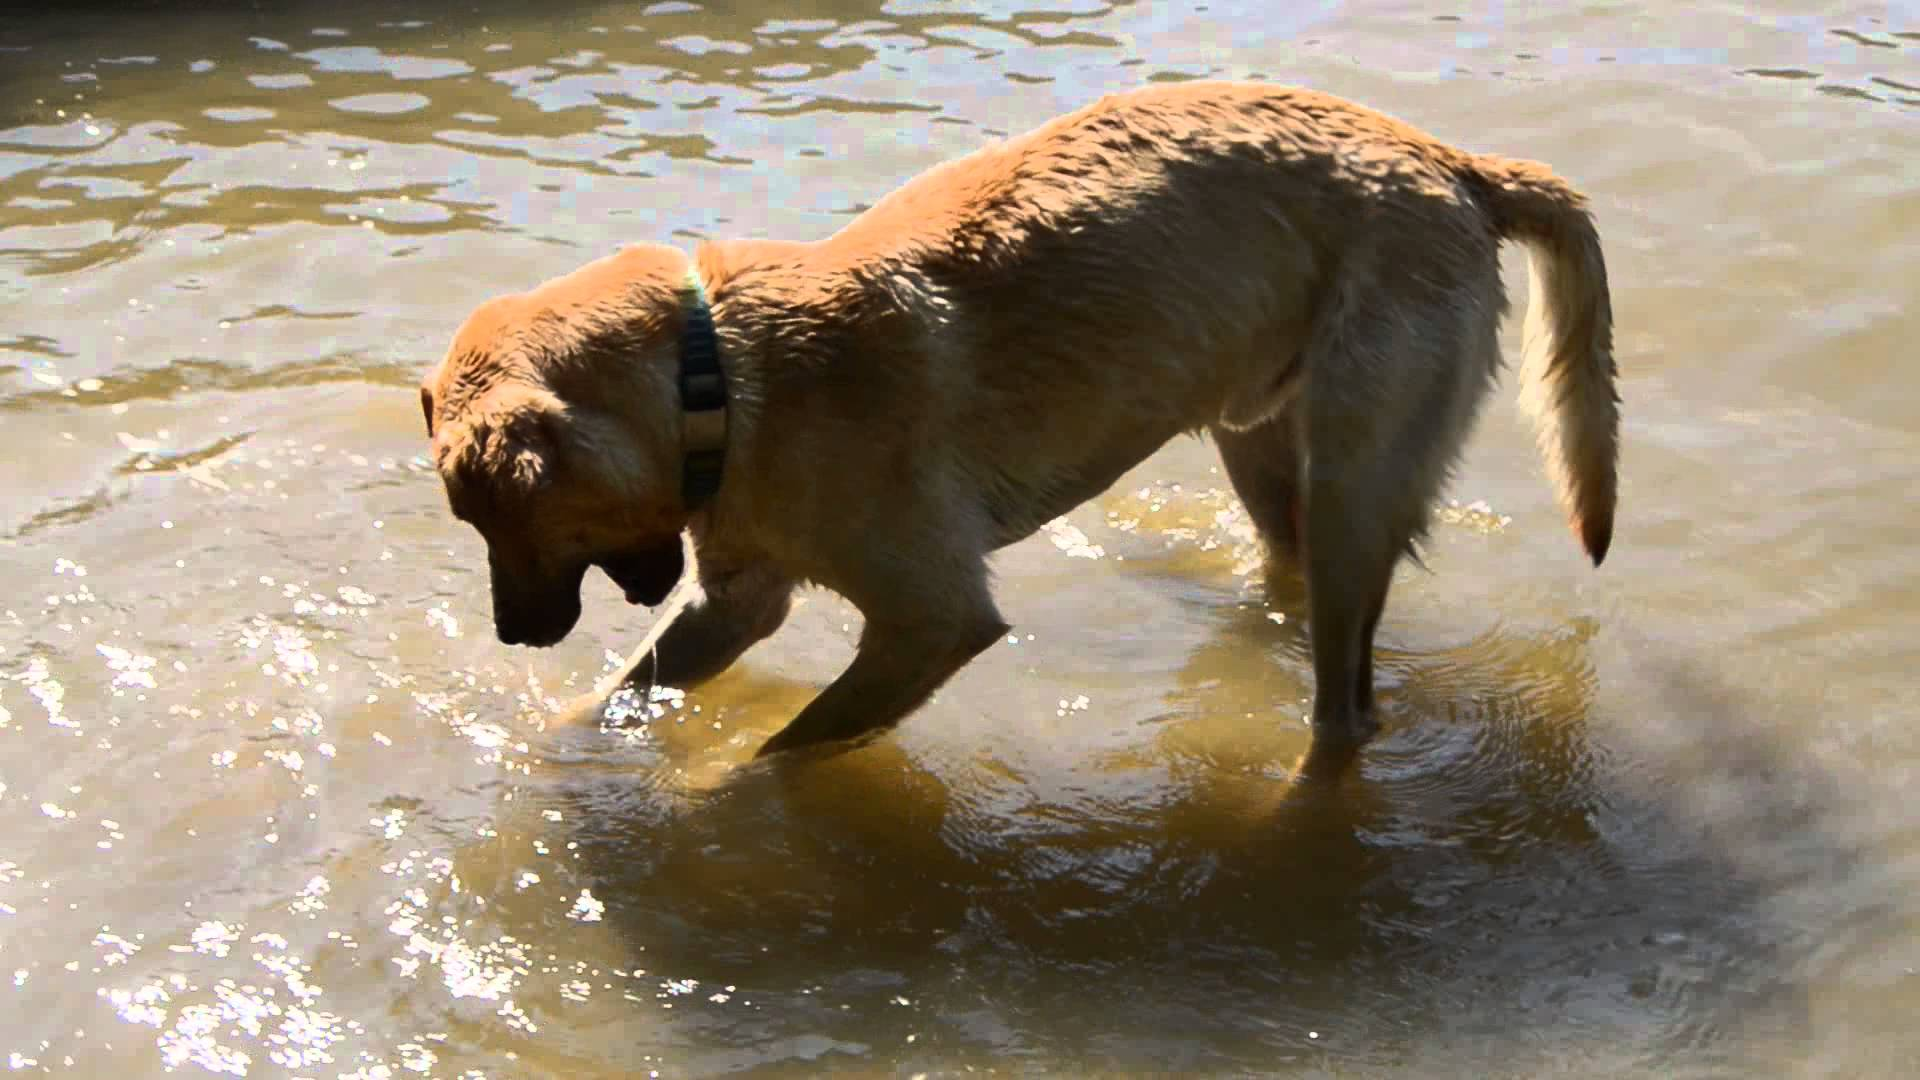tail: (1476, 124, 1630, 576)
